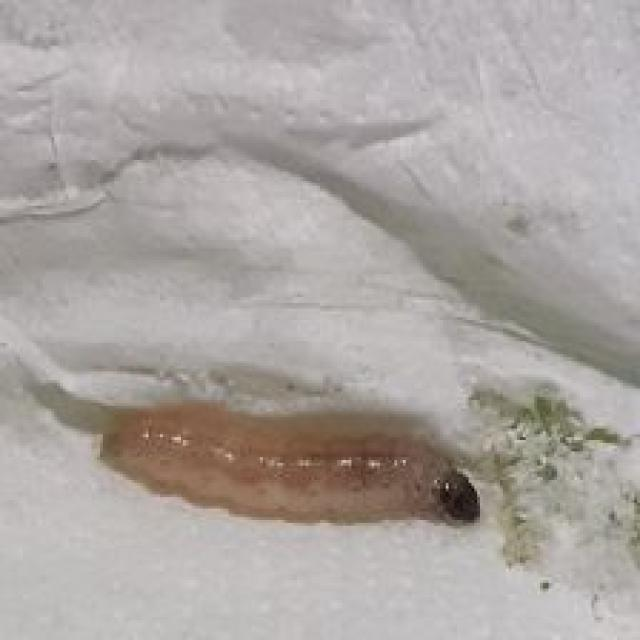white mucus: (73, 388, 506, 559)
